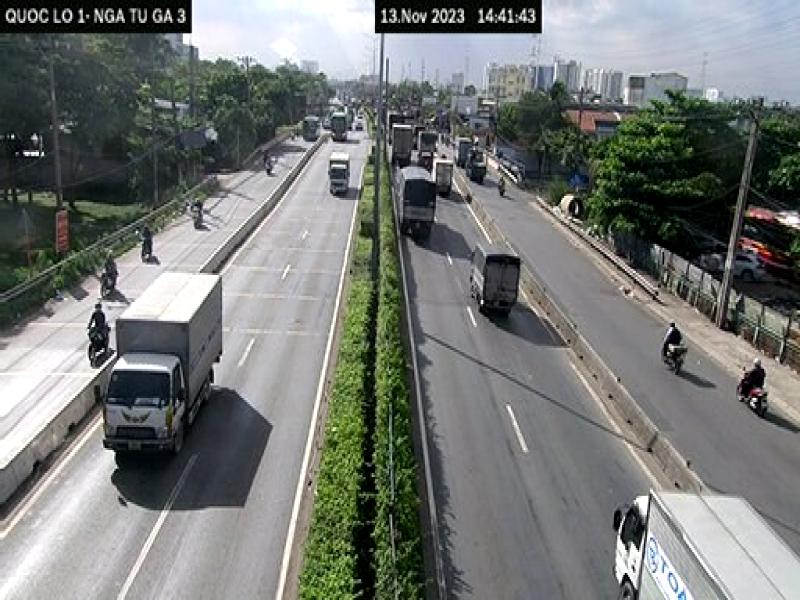truck: (101, 265, 226, 467), (608, 482, 800, 600), (464, 231, 530, 322)
